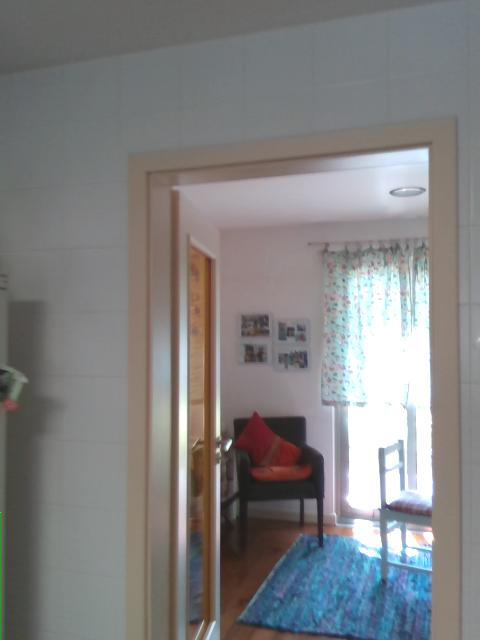open_door: (122, 114, 460, 639)
